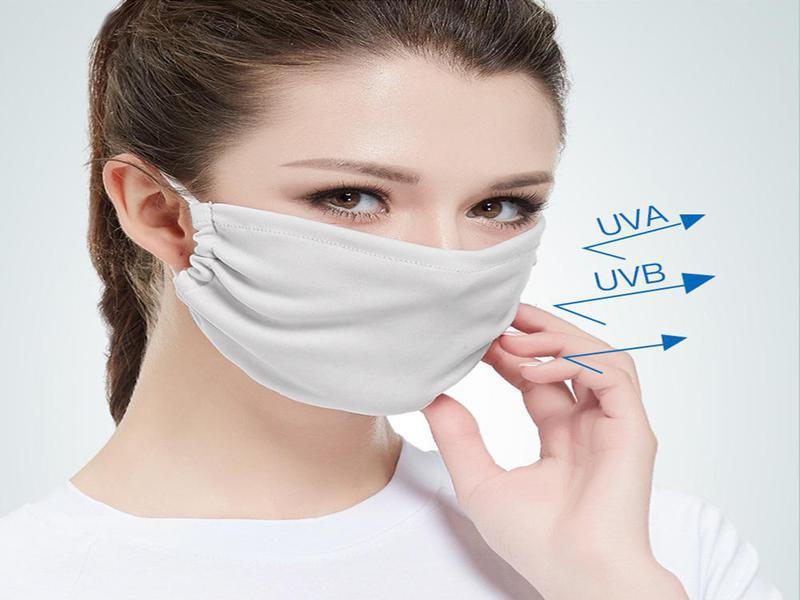with_mask: (81, 1, 571, 423)
